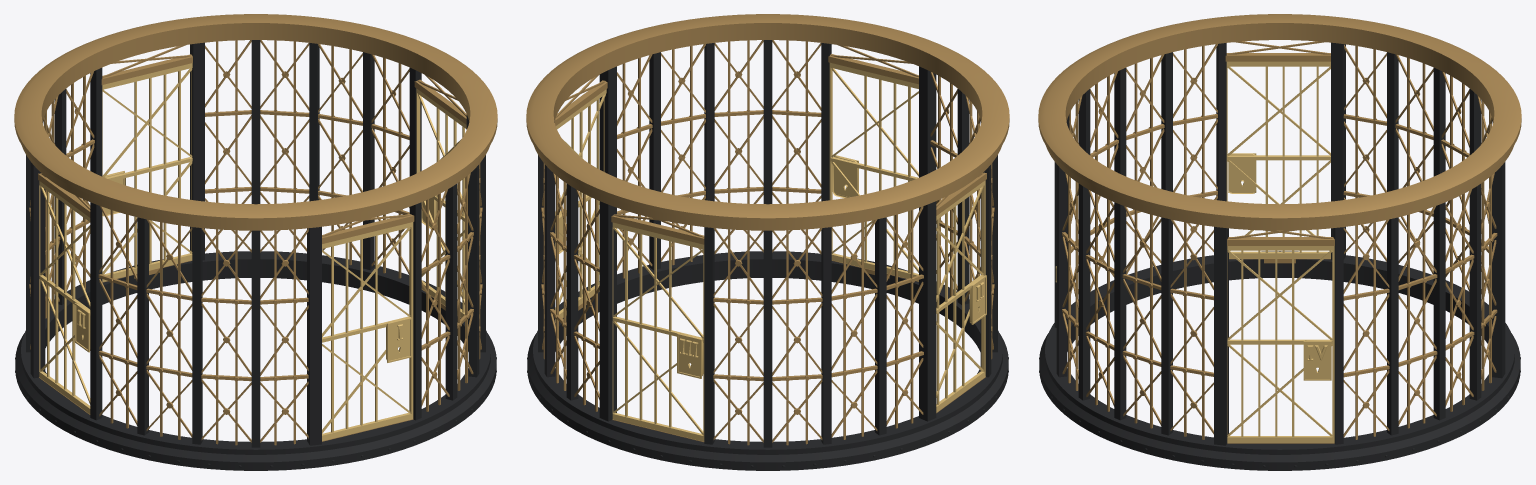
Rendered from cage.glb.
The picture shows the model from 3 angles, left to right: view 1: azimuth 30°, elevation 25°; view 2: azimuth 150°, elevation 25°; view 3: azimuth 270°, elevation 25°; orthographic projection.
Parts seen in each view (by area): view 1: cage, IA_gate_1, IA_gate_2, IA_gate_3, IA_gate_4; view 2: cage, IA_gate_3, IA_gate_2, IA_gate_1, IA_gate_4; view 3: cage, IA_gate_4, IA_gate_2.
Boxes of the visible parts, box(x1,y1,x2,y2) form: cage: box(14, 14, 497, 470); IA_gate_1: box(322, 222, 413, 440); IA_gate_2: box(39, 181, 90, 414); IA_gate_3: box(102, 63, 192, 281); IA_gate_4: box(416, 88, 466, 317); cage: box(526, 14, 1009, 470); IA_gate_3: box(612, 222, 704, 441); IA_gate_2: box(936, 180, 986, 412); IA_gate_1: box(829, 62, 918, 281); IA_gate_4: box(555, 89, 606, 322); cage: box(1038, 14, 1521, 470); IA_gate_4: box(1227, 246, 1334, 442); IA_gate_2: box(1226, 61, 1330, 258).
Bounding box in the file's own units: 5.14 × 3 × 5.14.
